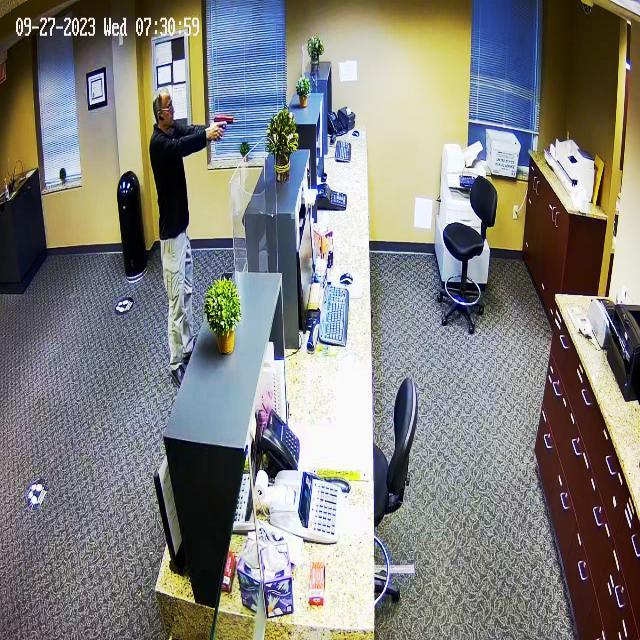Gun: (210, 112, 242, 136)
